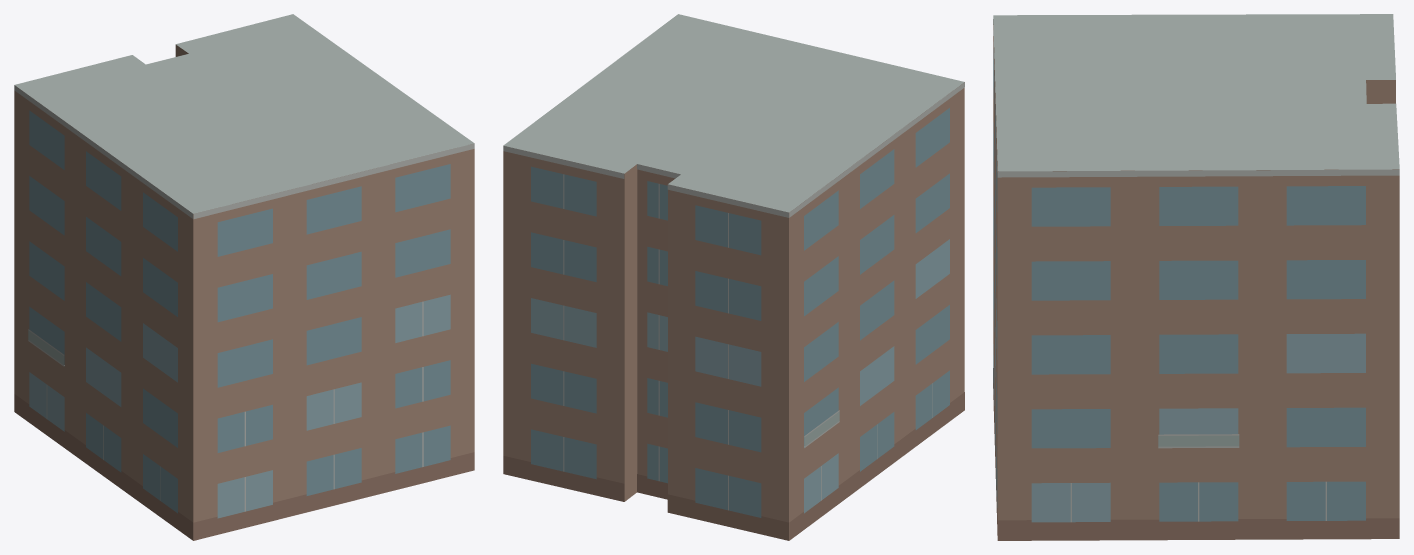
File: survey-upis-32736104.glb
3 views of the same model, side by side, from view 1: azimuth 30°, elevation 25°; view 2: azimuth 150°, elevation 25°; view 3: azimuth 270°, elevation 25° (orthographic). The views are drawn at different scales.
Parts seen in each view (by area): view 1: survey-upis-32736104.tmp; view 2: survey-upis-32736104.tmp; view 3: survey-upis-32736104.tmp.
Part boxes in pixels (box(x1,y1,x2,y2)): survey-upis-32736104.tmp: box(14, 14, 474, 540); survey-upis-32736104.tmp: box(503, 14, 964, 540); survey-upis-32736104.tmp: box(993, 14, 1399, 540).
Bounding box in the file's own units: 13.51 × 14.75 × 14.72.
